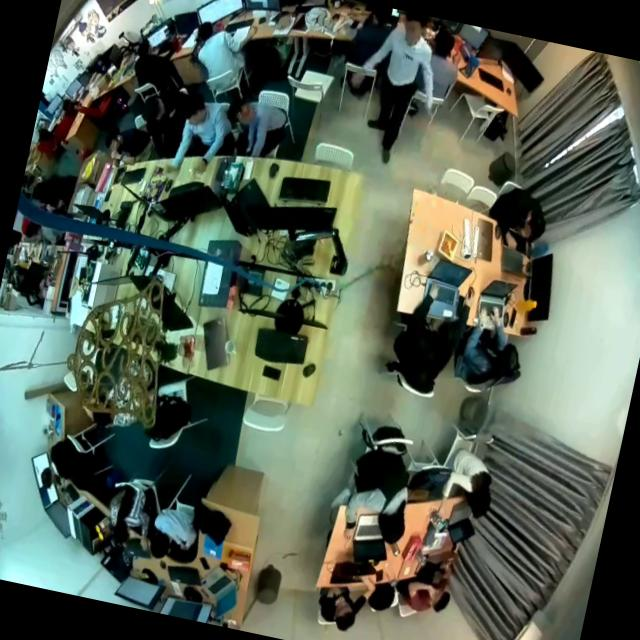employee_tag: (402, 50, 416, 66)
